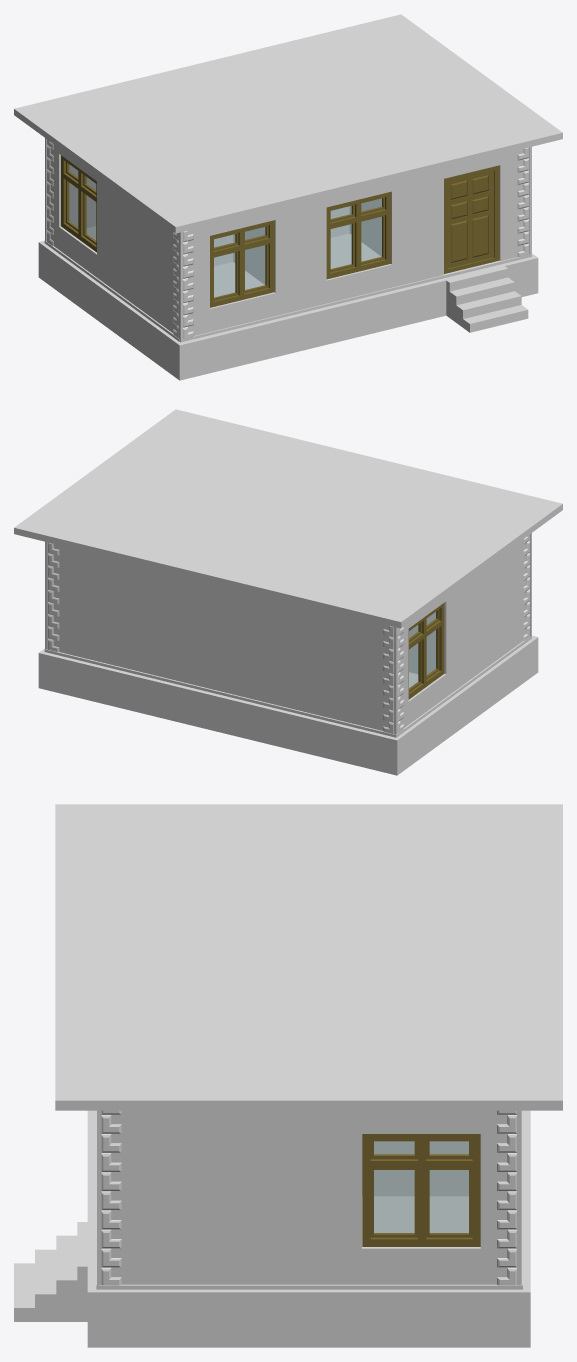
File: house_lowpoly_4.glb
3 renders of one model, top to bottom at view 1: azimuth 30°, elevation 25°; view 2: azimuth 150°, elevation 25°; view 3: azimuth 270°, elevation 25°, orthographic. The views are drawn at different scales.
Visible parts, largest first — view 1: Plane.001, Cube.024, wall.002, wall.001, wall.003, Cube.031, Cube.020, wall.005, Plane, Cube.025, Cube.030, Cube.022 (+6 smaller); view 2: Plane.001, Cube.024, wall.005, Cube.023, wall.004, wall.002, Cube.030, wall corner.005, wall corner.002, wall corner, wall corner.003, Cube.019 (+2 smaller); view 3: Plane.001, wall.003, Cube.024, wall.004, Cube.021, Cube.025, wall corner.007, wall corner.004, Cube.012, Cube.027, Cube.002, Cube.003.
Boxes of the visible parts, left/top/right/bottom form: Plane.001: left=14, top=14, right=562, bottom=233; Cube.024: left=38, top=240, right=538, bottom=380; wall.002: left=113, top=188, right=297, bottom=335; wall.001: left=297, top=175, right=413, bottom=310; wall.003: left=414, top=149, right=528, bottom=282; Cube.031: left=210, top=220, right=274, bottom=307; Cube.020: left=326, top=192, right=390, bottom=279; wall.005: left=50, top=144, right=113, bottom=289; Plane: left=447, top=170, right=493, bottom=268; Cube.025: left=446, top=266, right=528, bottom=332; Cube.030: left=61, top=155, right=96, bottom=252; Cube.022: left=444, top=165, right=499, bottom=273; Plane.001: left=14, top=409, right=562, bottom=628; Cube.024: left=38, top=635, right=538, bottom=775; wall.005: left=279, top=583, right=463, bottom=730; Cube.023: left=163, top=570, right=279, bottom=705; wall.004: left=48, top=544, right=162, bottom=677; wall.002: left=463, top=539, right=526, bottom=684; Cube.030: left=408, top=603, right=444, bottom=699; wall corner.005: left=48, top=542, right=59, bottom=651; wall corner.002: left=383, top=625, right=393, bottom=733; wall corner: left=523, top=534, right=529, bottom=640; wall corner.003: left=398, top=627, right=403, bottom=733; Cube.019: left=162, top=677, right=279, bottom=709; Plane.001: left=55, top=804, right=562, bottom=1110; wall.003: left=102, top=1110, right=309, bottom=1284; Cube.024: left=87, top=1110, right=530, bottom=1347; wall.004: left=309, top=1110, right=516, bottom=1284; Cube.021: left=362, top=1134, right=480, bottom=1246; Cube.025: left=14, top=1222, right=87, bottom=1321; wall corner.007: left=101, top=1110, right=121, bottom=1285; wall corner.004: left=497, top=1110, right=516, bottom=1285; Cube.012: left=98, top=1284, right=311, bottom=1289; Cube.027: left=309, top=1284, right=522, bottom=1289; Cube.002: left=517, top=1110, right=521, bottom=1285; Cube.003: left=97, top=1110, right=101, bottom=1285.
Bounding box in the file's own units: 6.65 × 2.7 × 5.21.
